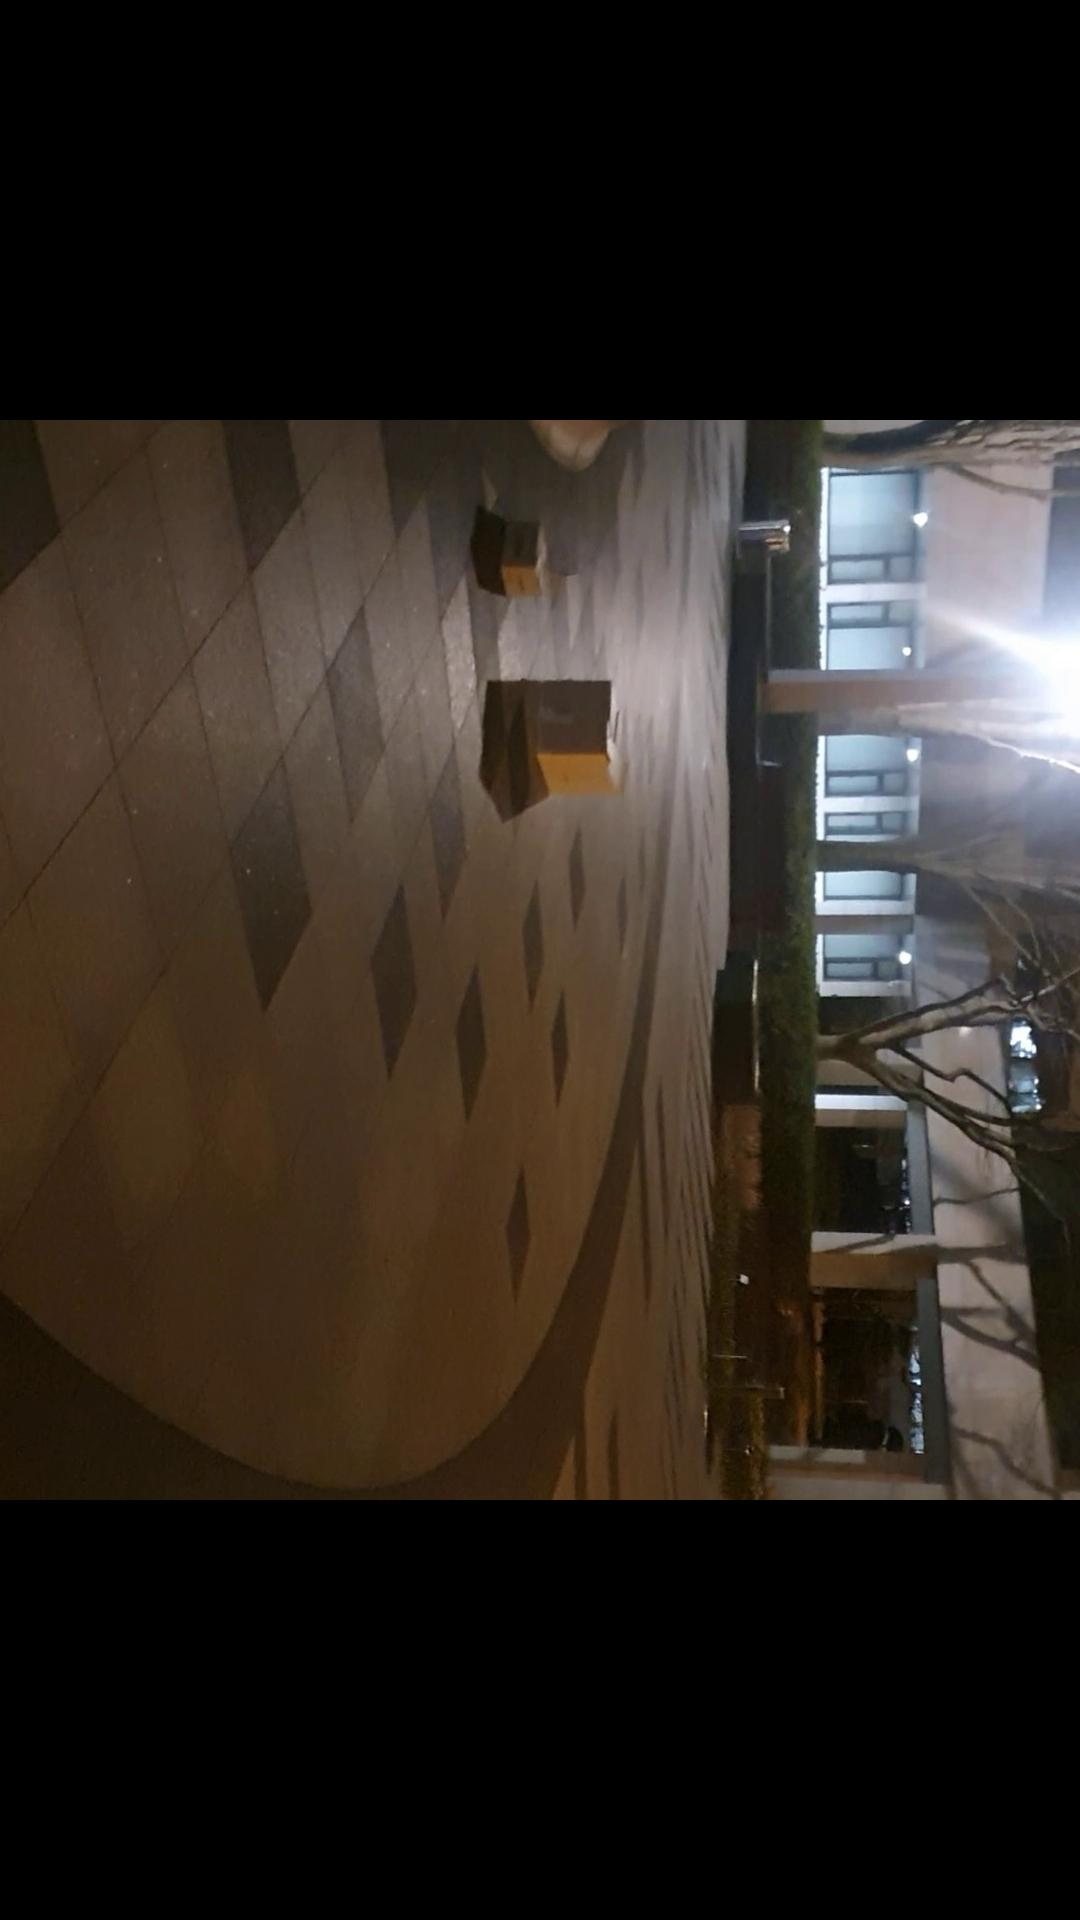Box: (508, 678, 625, 800), (502, 533, 547, 611)
